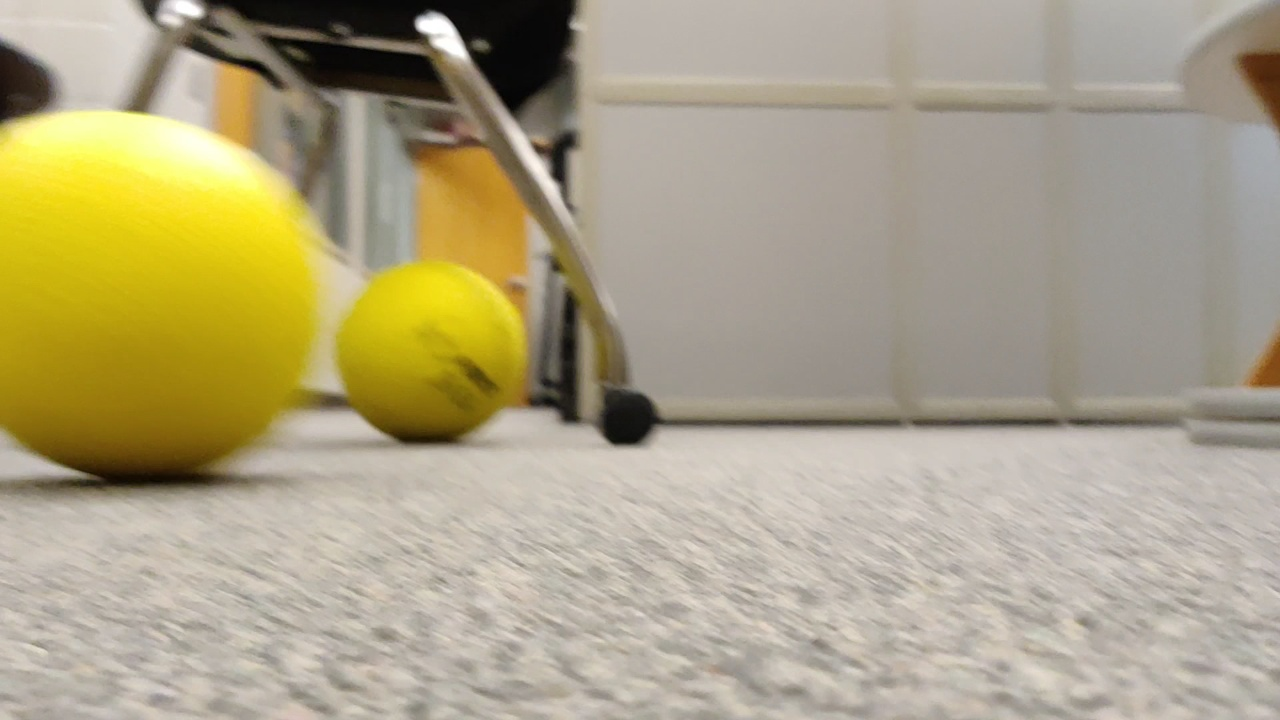Ball: (1, 105, 311, 478), (336, 263, 520, 447)
